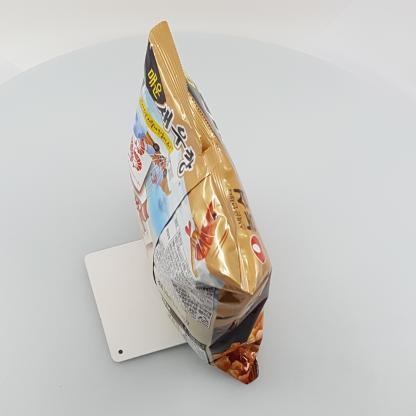Plastic Packaging: (120, 15, 296, 387)
